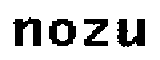n: (11, 15, 42, 50)
o: (45, 18, 78, 48)
u: (115, 16, 147, 50)
z: (80, 18, 112, 48)
